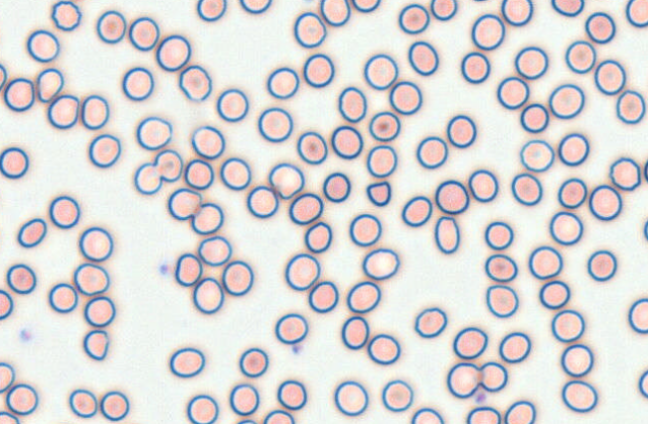PLT: (19, 328, 36, 344), (292, 342, 305, 356), (158, 263, 172, 275)
RBC: (268, 162, 304, 199), (284, 253, 320, 290), (155, 34, 191, 71), (257, 106, 293, 142), (548, 83, 584, 119), (363, 53, 398, 90), (446, 362, 481, 398), (333, 380, 368, 416), (178, 64, 212, 101), (471, 13, 505, 50), (361, 247, 399, 280), (78, 226, 113, 261), (434, 179, 469, 214), (588, 184, 622, 220), (136, 116, 172, 150), (293, 11, 326, 48), (528, 245, 563, 279), (73, 262, 109, 295), (192, 277, 224, 314), (561, 380, 598, 412), (549, 211, 583, 245), (191, 125, 225, 159), (514, 45, 548, 79), (346, 280, 381, 313), (519, 139, 554, 172), (452, 326, 487, 359), (88, 133, 121, 168), (121, 66, 154, 101), (594, 59, 626, 95), (167, 187, 201, 220), (560, 343, 593, 377), (485, 284, 518, 318), (330, 125, 363, 159), (389, 80, 422, 114), (288, 192, 323, 224), (221, 260, 253, 295), (47, 94, 79, 129), (302, 53, 334, 88), (496, 76, 529, 109), (551, 309, 584, 342), (26, 29, 59, 62), (348, 213, 381, 246), (266, 66, 299, 99), (3, 77, 35, 111), (274, 312, 308, 344), (416, 135, 448, 169), (216, 88, 248, 122), (557, 132, 589, 166), (609, 156, 641, 190), (407, 40, 438, 75), (128, 16, 159, 51), (169, 347, 205, 377), (337, 86, 367, 122), (564, 40, 596, 73), (510, 172, 542, 205), (5, 383, 38, 415), (246, 185, 278, 218), (367, 333, 400, 365), (381, 379, 413, 412), (219, 157, 251, 190), (414, 306, 447, 338), (498, 331, 531, 363), (197, 235, 231, 266), (296, 130, 327, 164), (433, 215, 460, 254), (615, 89, 645, 124), (191, 202, 223, 234), (366, 144, 397, 177), (49, 195, 80, 228), (468, 168, 498, 202), (446, 114, 476, 148), (80, 94, 109, 129), (586, 249, 617, 281), (84, 295, 115, 327), (401, 195, 432, 227), (584, 11, 615, 43), (368, 110, 400, 141), (153, 149, 183, 182), (308, 280, 338, 313), (96, 10, 126, 43), (340, 315, 369, 349), (276, 379, 307, 410), (50, 0, 81, 31), (398, 3, 429, 34), (229, 383, 259, 415), (460, 51, 490, 83), (484, 253, 517, 282), (174, 252, 202, 286), (184, 158, 214, 189), (48, 282, 78, 313), (557, 177, 587, 208), (6, 263, 36, 294), (99, 390, 129, 421), (133, 162, 162, 194), (538, 280, 570, 309), (186, 394, 218, 423), (0, 146, 29, 178), (238, 347, 268, 377), (17, 217, 47, 247), (520, 102, 549, 133), (304, 221, 332, 253), (68, 388, 97, 418), (484, 220, 513, 250), (479, 361, 507, 392), (322, 171, 350, 202), (501, 0, 533, 26), (320, 0, 350, 26), (503, 400, 535, 423), (628, 297, 647, 333), (196, 0, 226, 21), (625, 0, 648, 27), (466, 406, 501, 423), (551, 0, 584, 17), (430, 0, 457, 20), (410, 407, 443, 423), (0, 361, 15, 393), (238, 0, 272, 14), (262, 409, 294, 423), (0, 289, 13, 320), (351, 0, 380, 12), (638, 368, 648, 398), (0, 411, 19, 423), (0, 62, 7, 91), (643, 157, 648, 182), (643, 216, 648, 241), (235, 418, 257, 423), (0, 222, 3, 251), (0, 183, 2, 208), (469, 0, 493, 2)
Schistocyte: (38, 68, 64, 103), (83, 330, 111, 360), (367, 181, 391, 208)
